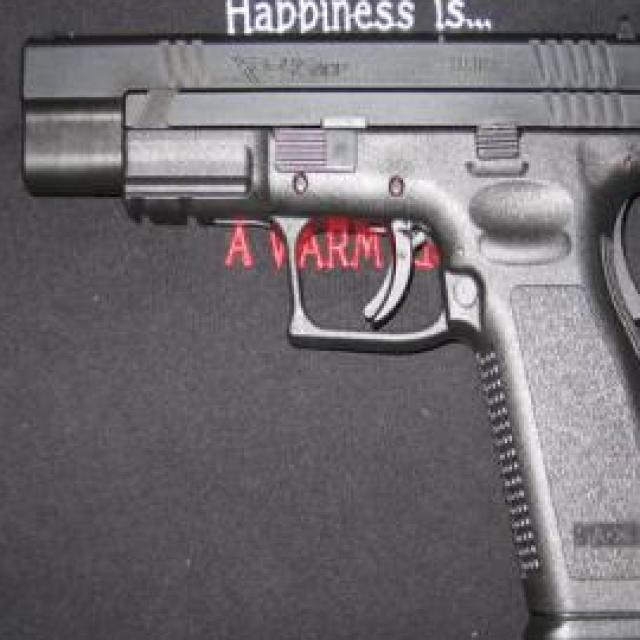pistol: (19, 14, 640, 640)
